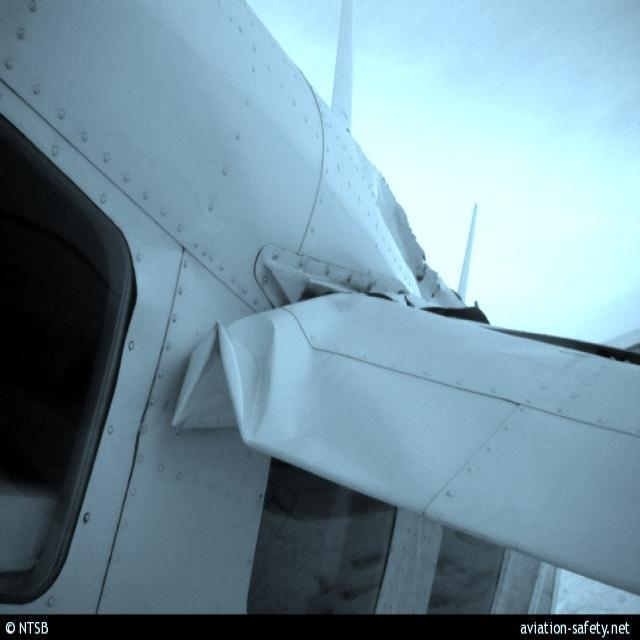dent: (165, 313, 283, 443)
